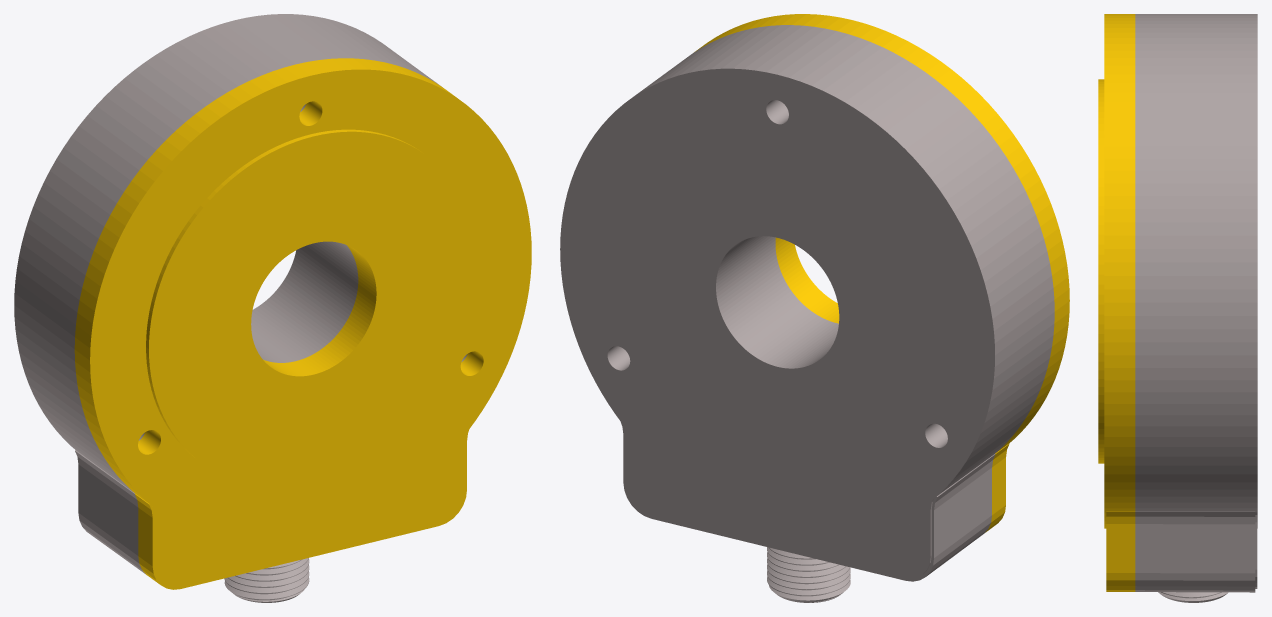
File: encoder-premiumline.glb
The picture shows the model from 3 angles, left to right: view 1: azimuth 30°, elevation 25°; view 2: azimuth 150°, elevation 25°; view 3: azimuth 270°, elevation 25°; orthographic projection. The views are drawn at different scales.
Size of the model in its own units: 0.077 by 0.0907 by 0.0238.
